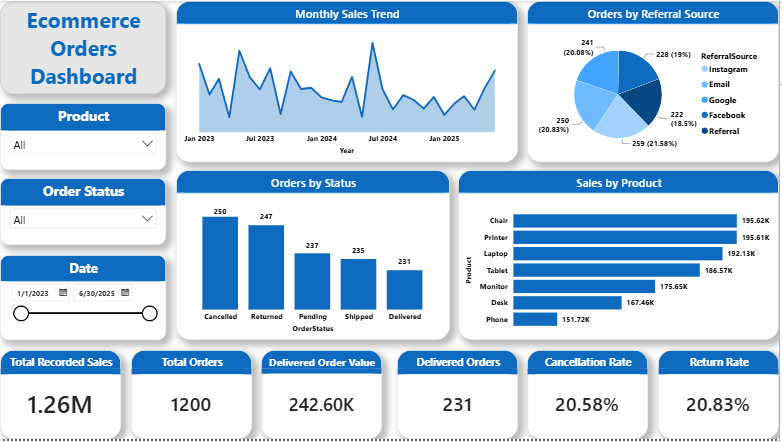

The page's visual inventory and layout, read from the dashboard file:
{"tool":"powerbi","page":{"name":"Page 1","canvas":[1280,720],"ordinal":0},"visuals":[{"type":"cardVisual","title":"Total Recorded Sales","fields":{"Data":["Ecommerce Orders.Total Recorded Sales"]},"box":[0,573.5,198.8,146.2],"z":0},{"type":"textbox","title":"Ecommerce Orders Dashboard","box":[0,0,272.8,152.8],"z":1000},{"type":"cardVisual","title":"Net Revenue","fields":{"Data":["Ecommerce Orders.Net Revenue"]},"box":[428.9,573.5,198.8,146.2],"z":2000},{"type":"cardVisual","title":"Cancellation Rate","fields":{"Data":["Ecommerce Orders.Return Rate"]},"box":[865.9,573.5,198.8,146.2],"z":3000},{"type":"cardVisual","title":"Return Rate","fields":{"Data":["Ecommerce Orders.Cancellation Rate"]},"box":[1081.2,573.5,198.8,146.2],"z":4000},{"type":"cardVisual","title":"Total Orders","fields":{"Data":["Ecommerce Orders.Total Orders"]},"box":[215.3,573.5,198.8,146.2],"z":5000},{"type":"cardVisual","title":"Delivered Orders","fields":{"Data":["Ecommerce Orders.Delivered Orders"]},"box":[652.3,573.5,198.8,146.2],"z":6000},{"type":"slicer","title":"Date","fields":{"Values":["Ecommerce Orders.Date"]},"box":[0,417.4,272.8,139.7],"z":7000},{"type":"slicer","title":"Product","fields":{"Values":["Ecommerce Orders.Product"]},"box":[0,167.6,272.8,110.1],"z":8000},{"type":"slicer","title":"Order Status","fields":{"Values":["Ecommerce Orders.OrderStatus"]},"box":[0,290.8,272.8,110.1],"z":9000},{"type":"lineChart","title":"Monthly Sales Trend","fields":{"Category":["Ecommerce Orders.Date.Variation.Date Hierarchy.Year","Ecommerce Orders.Date.Variation.Date Hierarchy.Month"],"Y":["Sum(Ecommerce Orders.TotalPrice)"]},"box":[289.2,0,562,264.5],"z":10000},{"type":"clusteredBarChart","title":"Sales by Product","fields":{"Y":["Sum(Ecommerce Orders.TotalPrice)"],"Category":["Ecommerce Orders.Product"]},"box":[752.6,277.7,527.4,279.3],"z":11000},{"type":"clusteredColumnChart","title":"Orders by Status","fields":{"Category":["Ecommerce Orders.OrderStatus"],"Y":["Count(Ecommerce Orders.OrderID)"]},"box":[289.2,277.7,450.2,279.3],"z":12000},{"type":"pieChart","title":"Orders by Referral Source","fields":{"Category":["Ecommerce Orders.ReferralSource"],"Y":["Count(Ecommerce Orders.OrderID)"]},"box":[865.9,0,414.1,264.5],"z":13000}]}

Visuals, with their boxes in screenshot pixels (x1, y1, x2, y2), scaled from the page's 1280x720 canvas onto the 782x442 screenshot:
"Total Recorded Sales" cardVisual: 0:352:121:441
"Ecommerce Orders Dashboard" textbox: 0:0:167:94
"Net Revenue" cardVisual: 262:352:383:441
"Cancellation Rate" cardVisual: 529:352:650:441
"Return Rate" cardVisual: 661:352:781:441
"Total Orders" cardVisual: 132:352:253:441
"Delivered Orders" cardVisual: 399:352:520:441
"Date" slicer: 0:256:167:342
"Product" slicer: 0:103:167:170
"Order Status" slicer: 0:179:167:246
"Monthly Sales Trend" lineChart: 177:0:520:162
"Sales by Product" clusteredBarChart: 460:170:781:342
"Orders by Status" clusteredColumnChart: 177:170:452:342
"Orders by Referral Source" pieChart: 529:0:781:162
